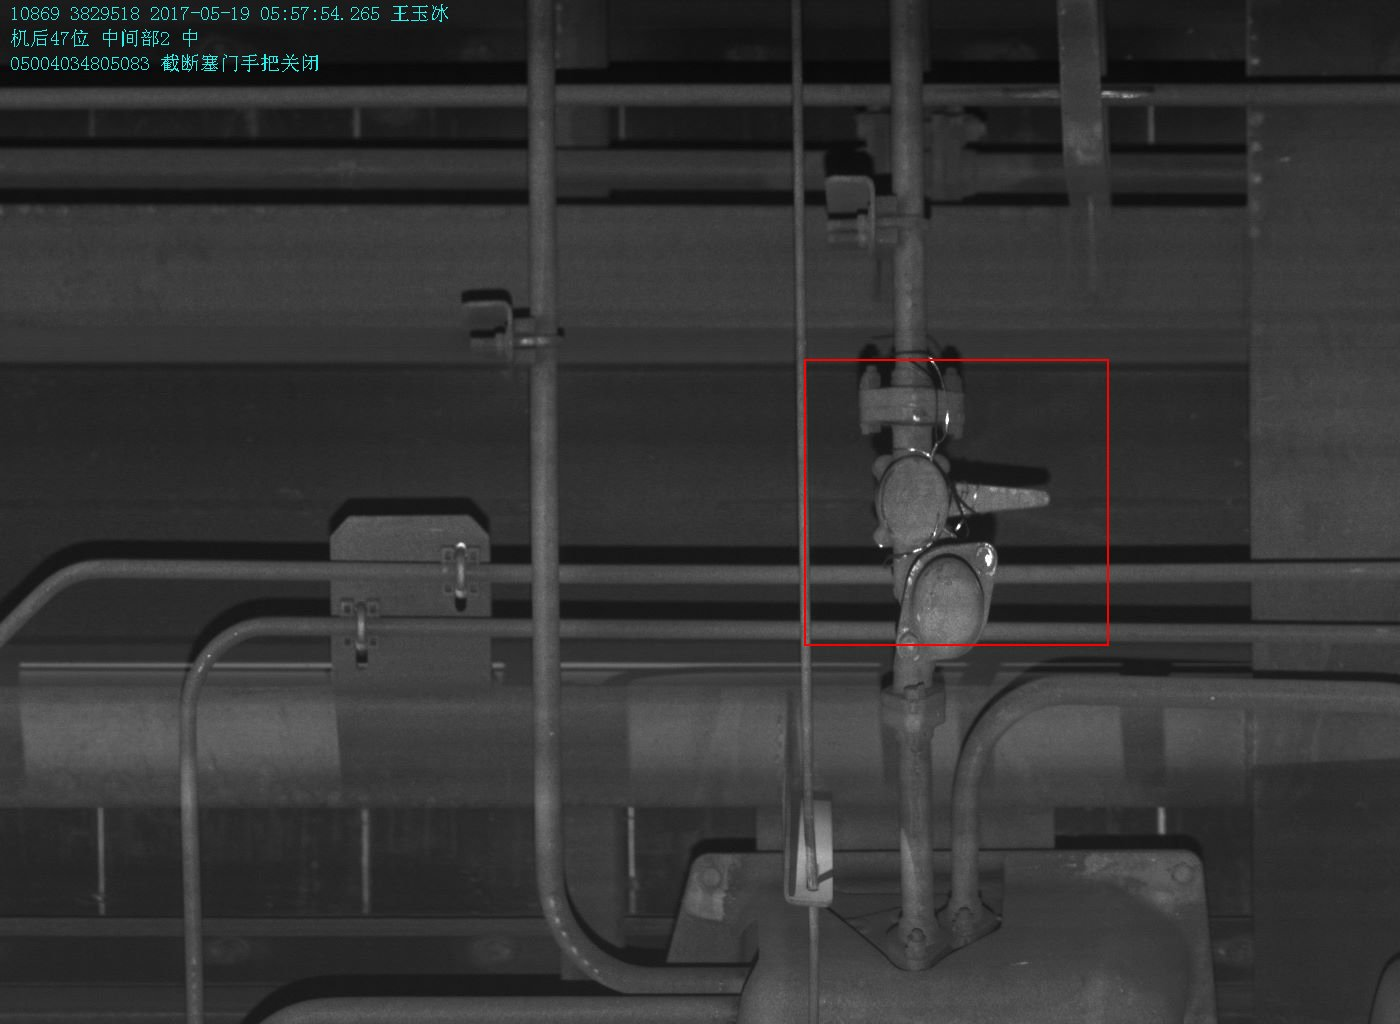truncated plug door handle: (860, 444, 1053, 560)
